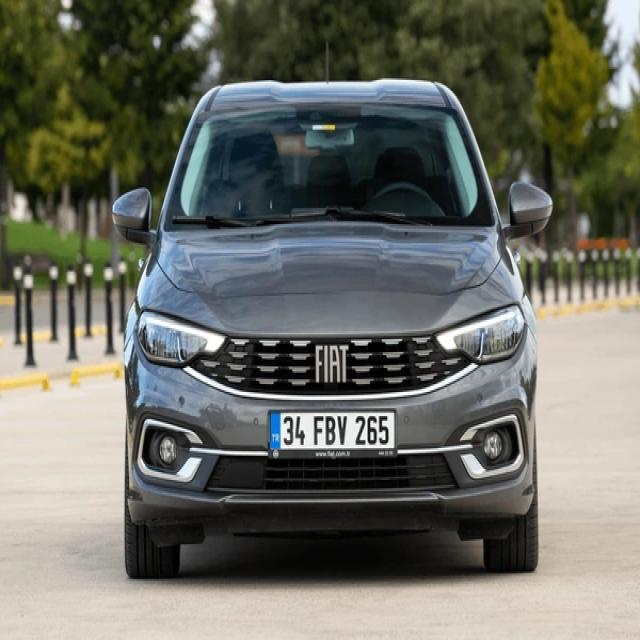fiat: (312, 341, 351, 386)
